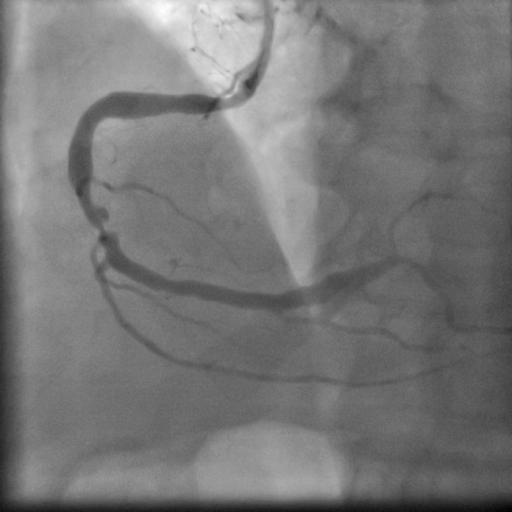Stenosis: (68, 191, 120, 246)
